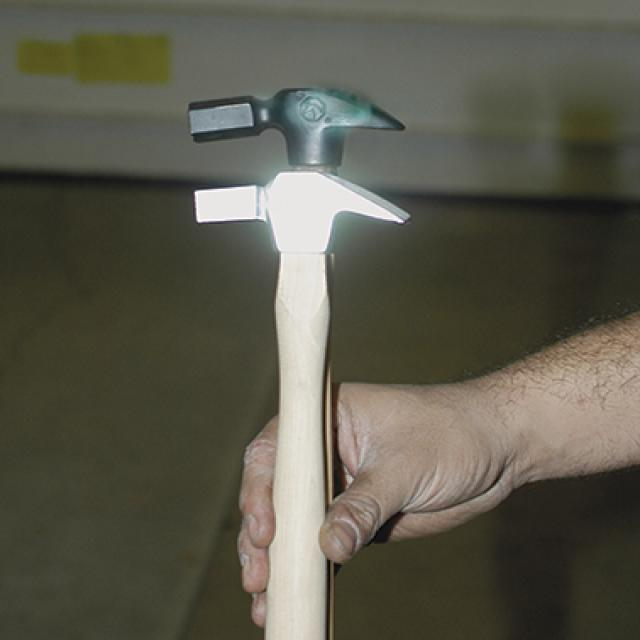hammer: (184, 83, 410, 640), (192, 175, 412, 639)
